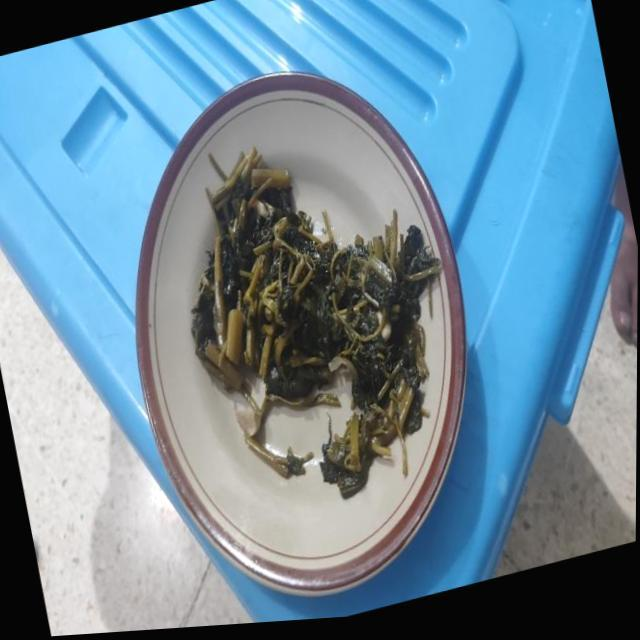tumis_kangkung: (192, 150, 440, 497)
